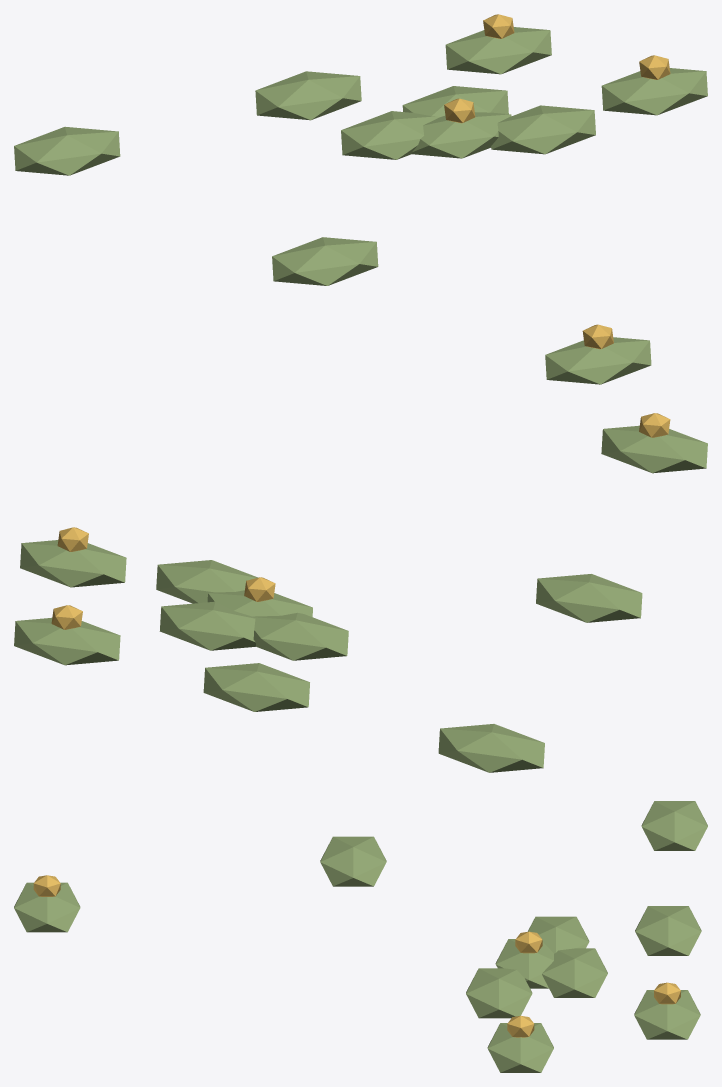
The model's file is meadow.glb.
3 renders of one model, top to bottom at view 1: azimuth 30°, elevation 25°; view 2: azimuth 150°, elevation 25°; view 3: azimuth 270°, elevation 25°, orthographic. The views are drawn at different scales.
Visible parts, largest first — view 1: Icosphere.010, Icosphere.002, Icosphere.003, Icosphere.011, Icosphere, Icosphere.012, Icosphere.008, Icosphere.007, Icosphere.004, Icosphere.006, Icosphere.001, Icosphere.005 (+2 smaller); view 2: Icosphere.003, Icosphere.002, Icosphere.010, Icosphere, Icosphere.008, Icosphere.012, Icosphere.006, Icosphere.007, Icosphere.011, Icosphere.004, Icosphere.005, Icosphere.001 (+2 smaller); view 3: Icosphere.002, Icosphere.003, Icosphere.010, Icosphere.011, Icosphere.006, Icosphere, Icosphere.008, Icosphere.012, Icosphere.007, Icosphere.004, Icosphere.005, Icosphere.009 (+2 smaller).
Part boxes in pixels (x1,y1,x2,y2): Icosphere.010: [255, 71, 361, 120]; Icosphere.002: [272, 237, 378, 285]; Icosphere.003: [14, 126, 120, 175]; Icosphere.011: [491, 105, 595, 154]; Icosphere: [545, 337, 651, 384]; Icosphere.012: [445, 27, 551, 74]; Icosphere.008: [601, 68, 707, 115]; Icosphere.007: [341, 111, 438, 159]; Icosphere.004: [411, 112, 511, 158]; Icosphere.006: [402, 86, 508, 117]; Icosphere.001: [582, 324, 613, 349]; Icosphere.005: [444, 98, 475, 123]; Icosphere.003: [438, 724, 544, 772]; Icosphere.002: [536, 574, 642, 622]; Icosphere.010: [203, 663, 309, 711]; Icosphere: [601, 425, 707, 473]; Icosphere.008: [20, 540, 126, 587]; Icosphere.012: [14, 617, 120, 665]; Icosphere.006: [159, 601, 255, 650]; Icosphere.007: [252, 612, 348, 660]; Icosphere.011: [156, 560, 257, 603]; Icosphere.004: [207, 590, 312, 616]; Icosphere.005: [244, 577, 275, 601]; Icosphere.001: [639, 413, 670, 437]; Icosphere.002: [320, 836, 386, 886]; Icosphere.003: [641, 801, 707, 850]; Icosphere.010: [635, 906, 701, 955]; Icosphere.011: [466, 968, 532, 1018]; Icosphere.006: [542, 948, 607, 997]; Icosphere: [14, 882, 80, 932]; Icosphere.008: [487, 1023, 553, 1072]; Icosphere.012: [634, 990, 700, 1039]; Icosphere.007: [528, 916, 589, 953]; Icosphere.004: [495, 939, 553, 988]; Icosphere.005: [515, 931, 542, 953]; Icosphere.009: [507, 1015, 534, 1037].
Size of the model in its own units: 1.78 by 0.145 by 1.95.
